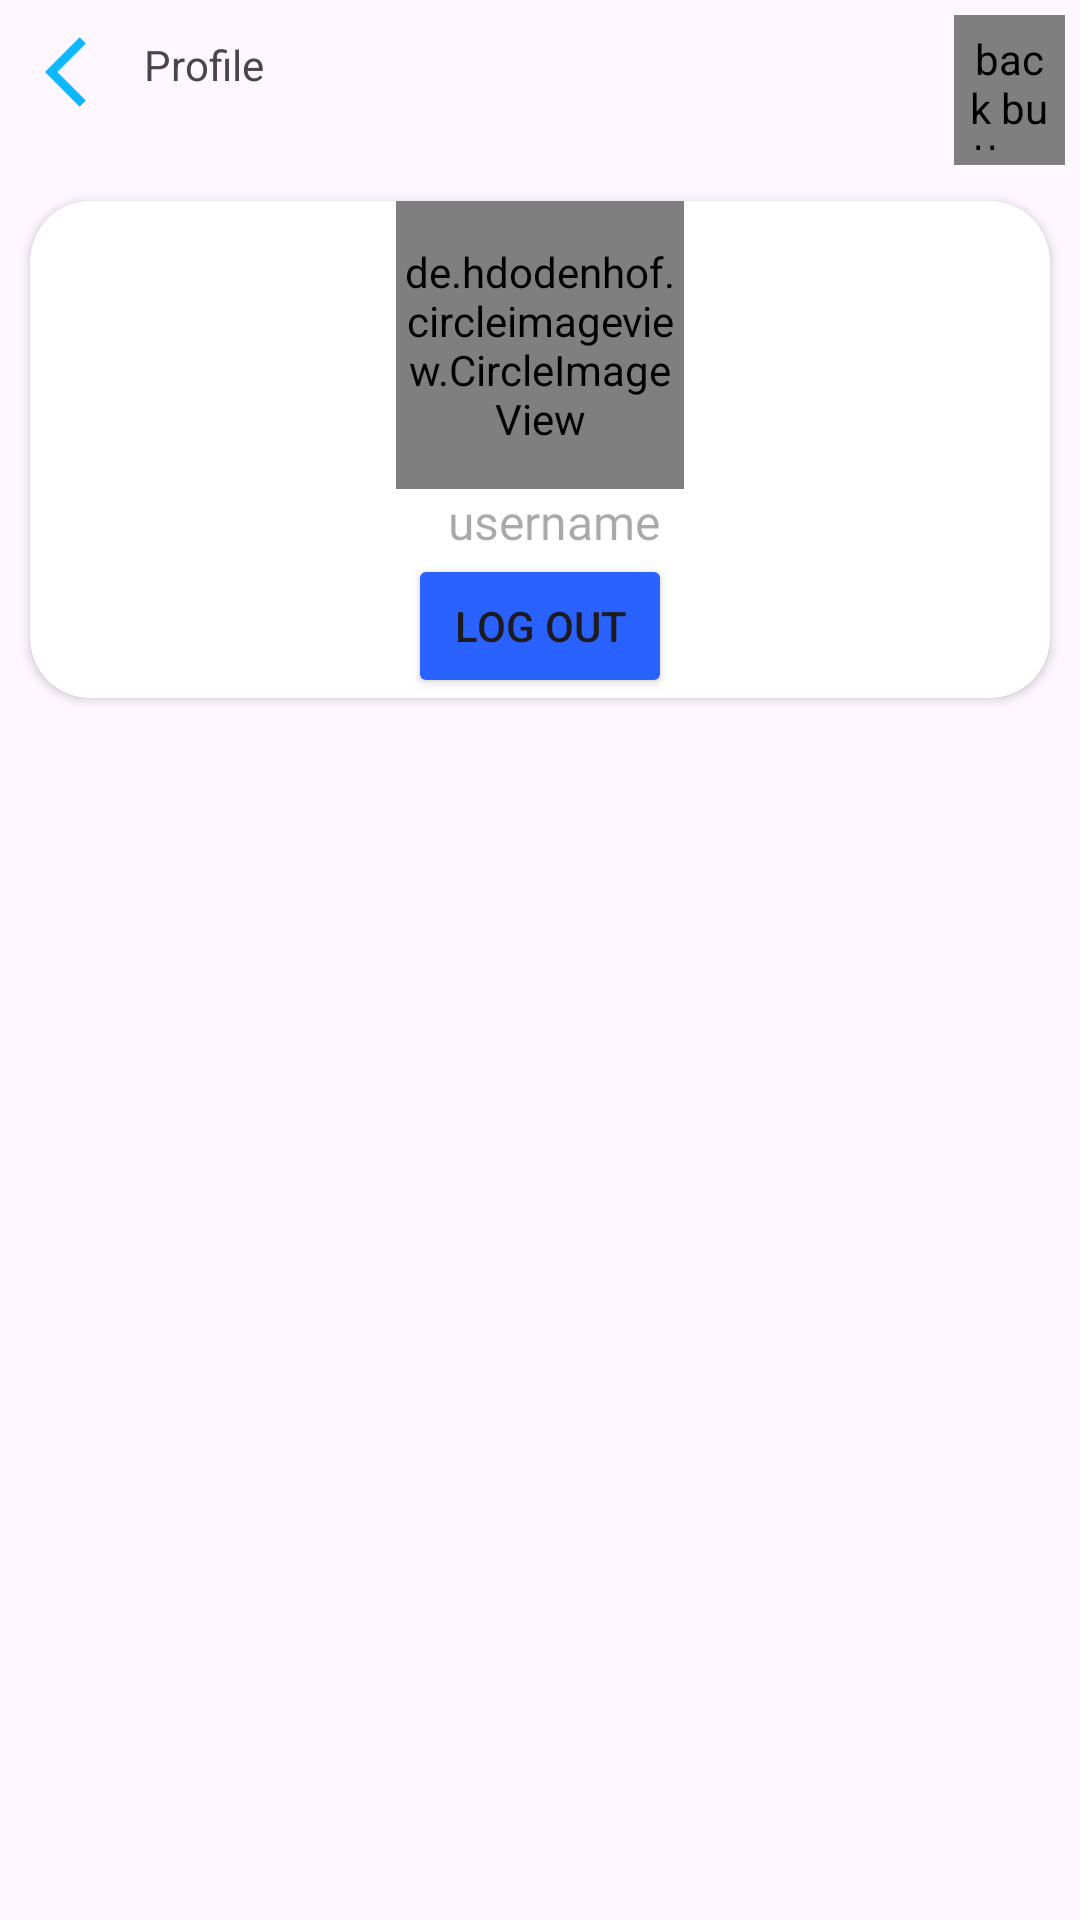

Locate icon controls on the screen. Image size 1080px x 1920px, boxes as [x1=x1, y1=y1, x2=x2, y2=y2].
arrow back: [x1=45, y1=37, x2=86, y2=107]
